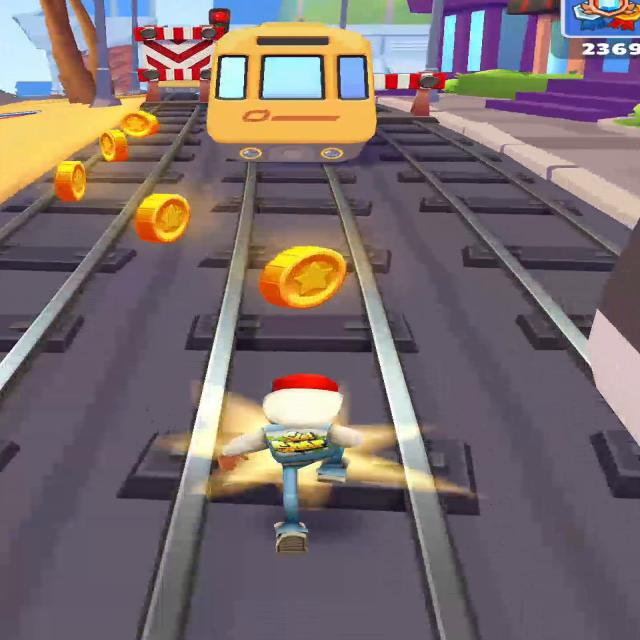blocker: (373, 71, 445, 116)
jump-barrier: (134, 9, 230, 101)
train: (207, 17, 379, 162)
